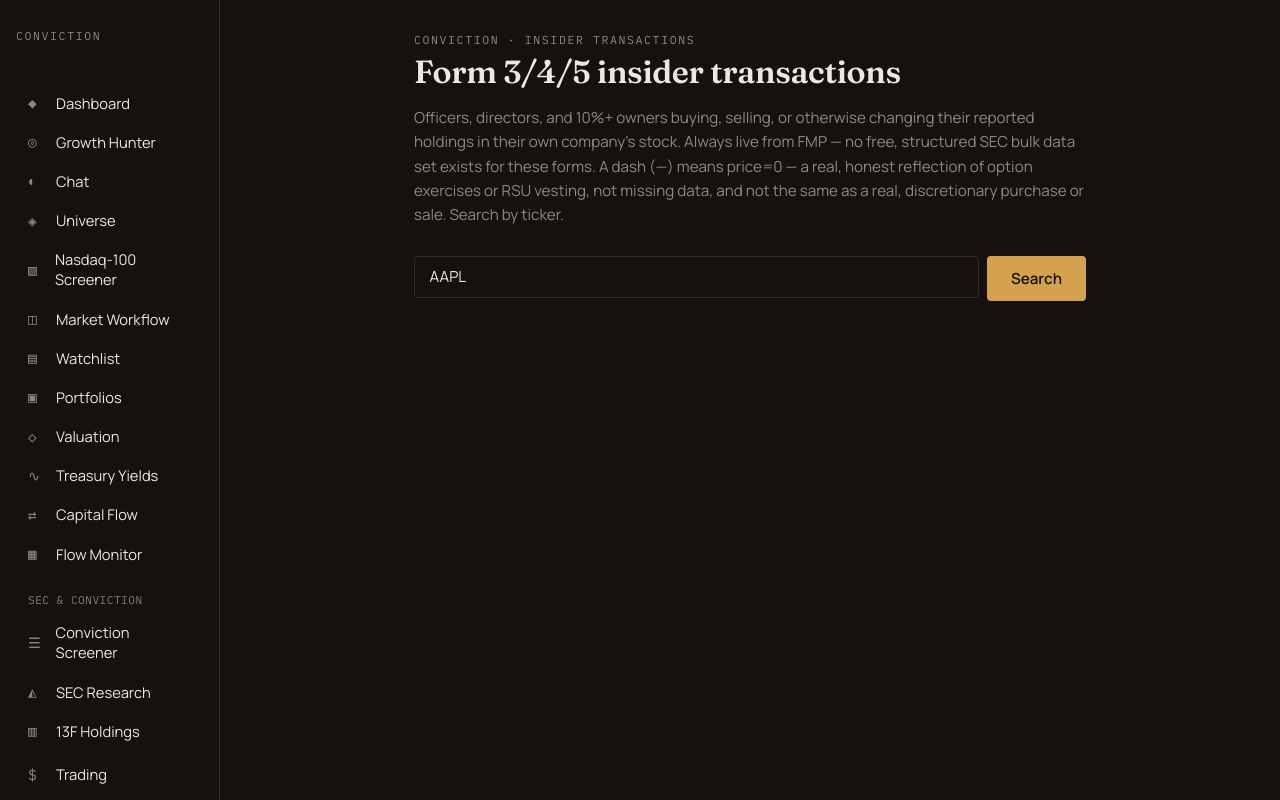
Test: Insider Transactions page › shows a dash, not a fabricated price, for a genuine price=0 transaction
Click the button "Search".
click(1036, 278)  # box [987,256,1086,300]
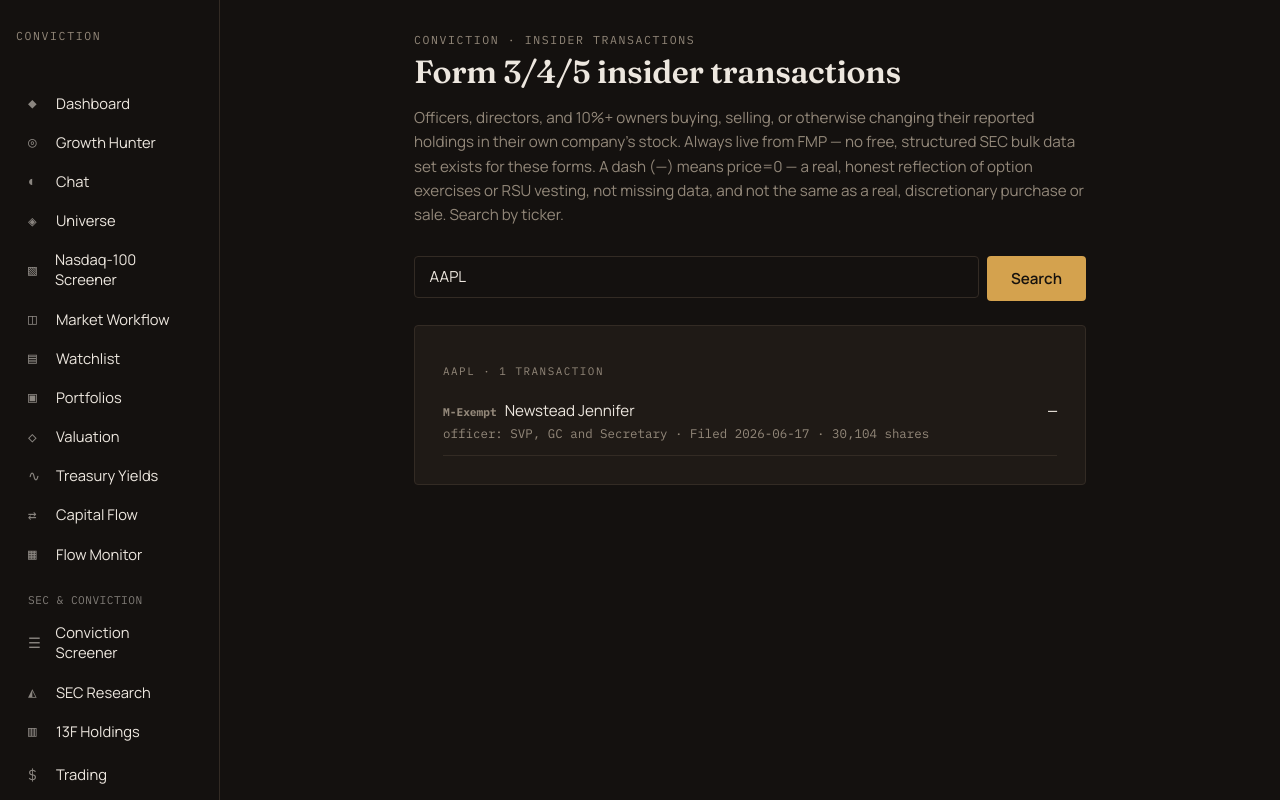
Result: the text "M-Exempt" is shown at [443,405,497,419]
Result: the text "—" is shown at [1048,400,1057,420]
